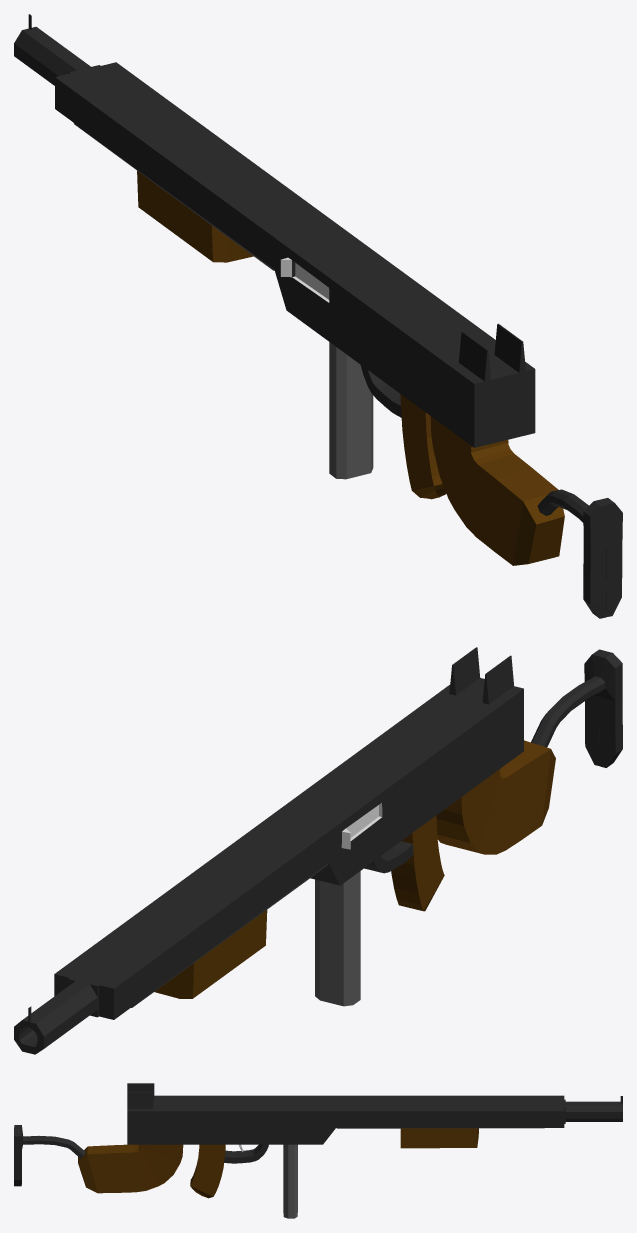
Rendered from Gun5.fbx.
The picture shows the model from 3 angles, top to bottom: view 1: azimuth 30°, elevation 25°; view 2: azimuth 150°, elevation 25°; view 3: azimuth 270°, elevation 25°; orthographic projection. The views are drawn at different scales.
Visible parts, largest first — view 1: Cube; view 2: Cube; view 3: Cube.
Boxes of the visible parts, x1,y1,x2,y2 form: Cube: (14,14,622,618); Cube: (14,647,622,1054); Cube: (14,1083,622,1218).
Size of the model in its own units: 227 by 752 by 3312.
